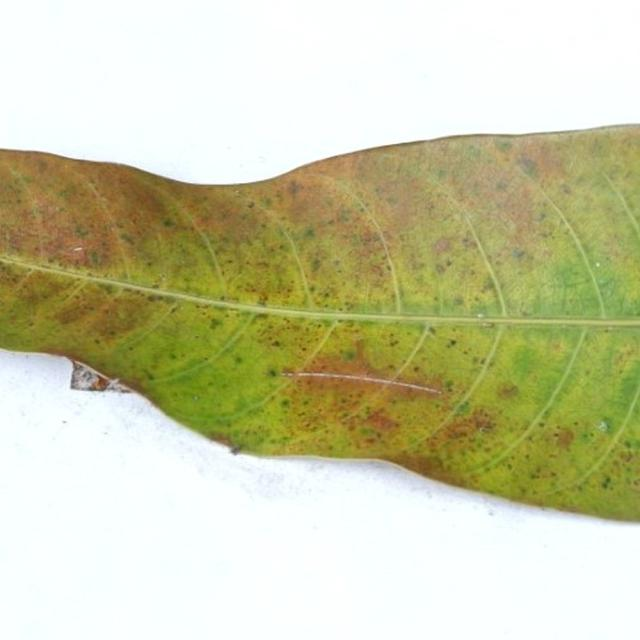Mango: (0, 125, 639, 527)
Powdery_Mildew: (216, 336, 460, 458), (247, 176, 412, 310), (336, 164, 516, 280), (472, 397, 631, 493), (1, 252, 148, 347), (512, 204, 633, 317), (100, 180, 214, 262), (510, 143, 578, 193), (503, 340, 550, 381), (611, 363, 640, 419), (224, 349, 249, 376), (208, 317, 223, 329), (234, 354, 243, 364)
